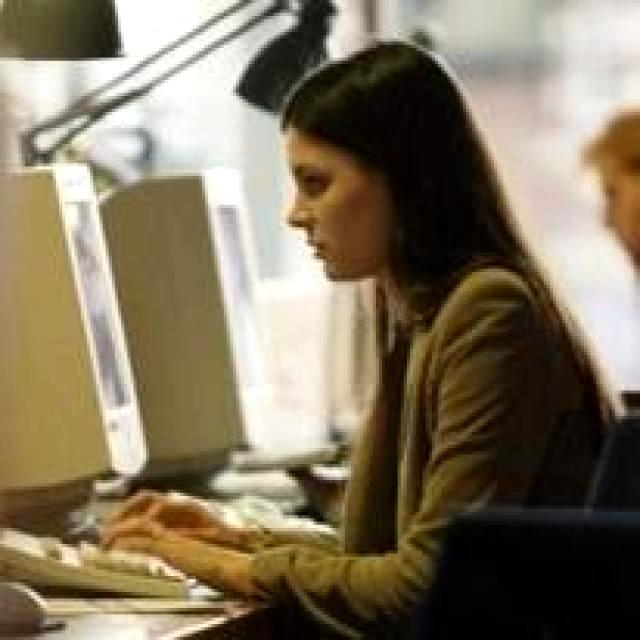no_head_wear: (283, 42, 526, 270)
person: (140, 42, 603, 634)
